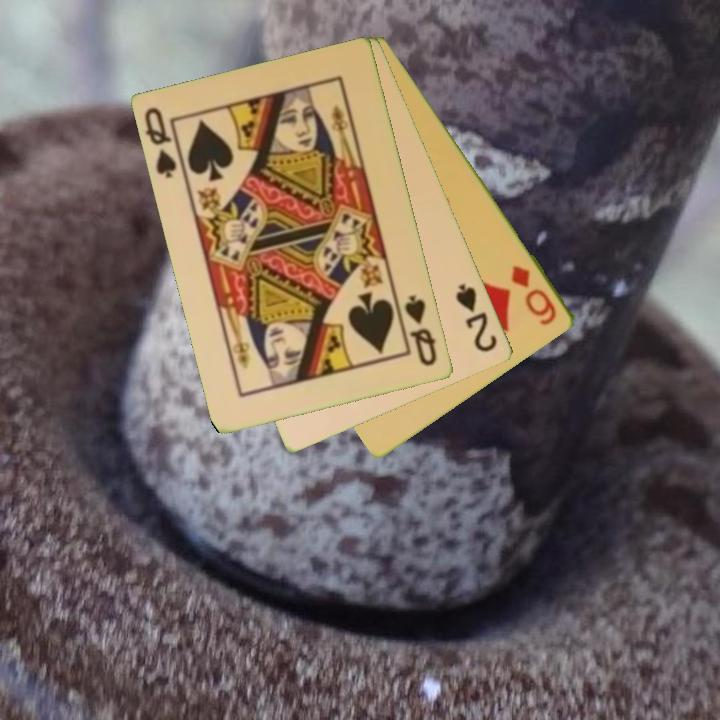2s: (452, 280, 501, 356)
6d: (508, 262, 560, 329)
Qs: (401, 291, 440, 370), (141, 104, 180, 182)
